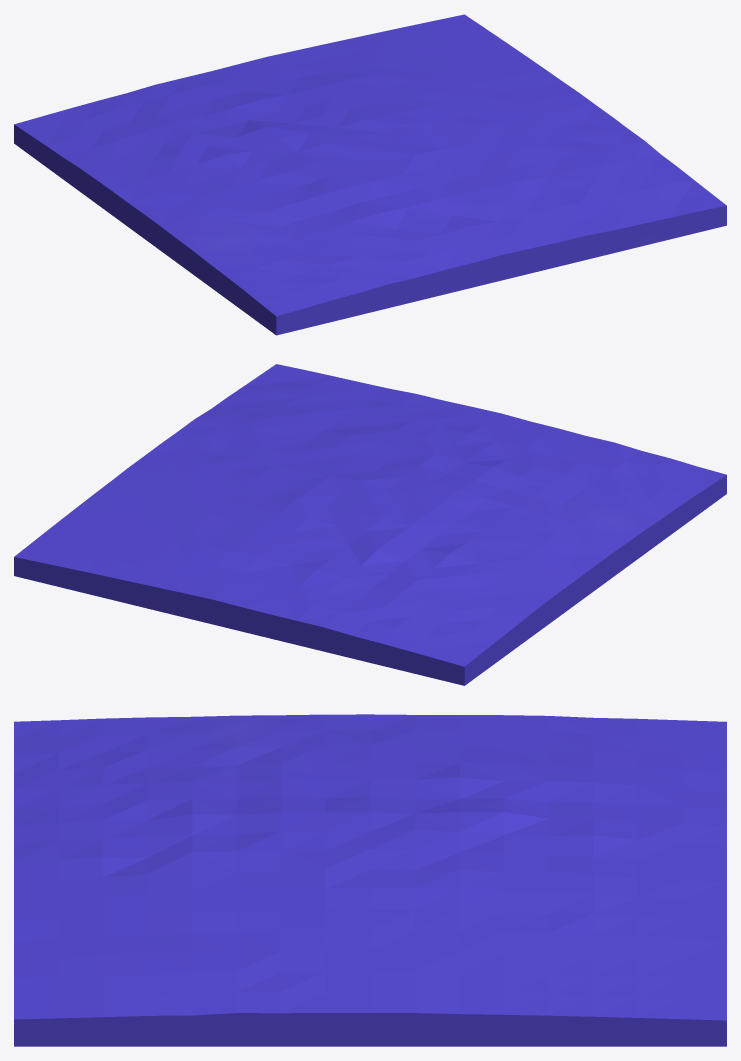
The model's file is Ground.obj.
3 views of the same model, one above another, from view 1: azimuth 30°, elevation 25°; view 2: azimuth 150°, elevation 25°; view 3: azimuth 270°, elevation 25° (orthographic). The views are drawn at different scales.
Parts seen in each view (by area): view 1: Ground.001; view 2: Ground.001; view 3: Ground.001.
Boxes of the visible parts, box(x1,y1,x2,y2) form: Ground.001: box(14, 14, 726, 335); Ground.001: box(14, 364, 726, 685); Ground.001: box(14, 714, 726, 1046).
Bounding box in the file's own units: 59.13 × 4.46 × 59.64.
